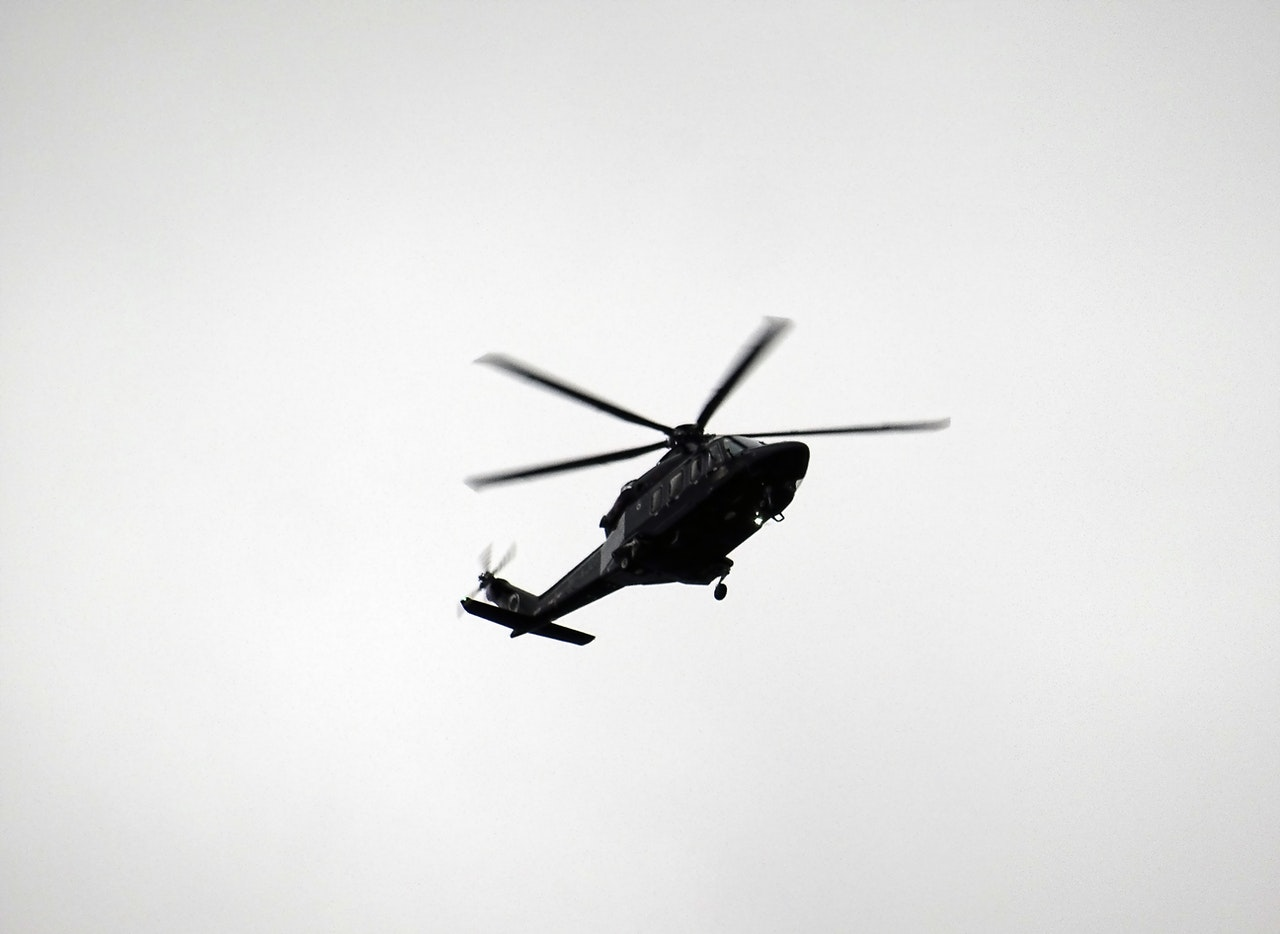heli: (460, 322, 948, 647)
